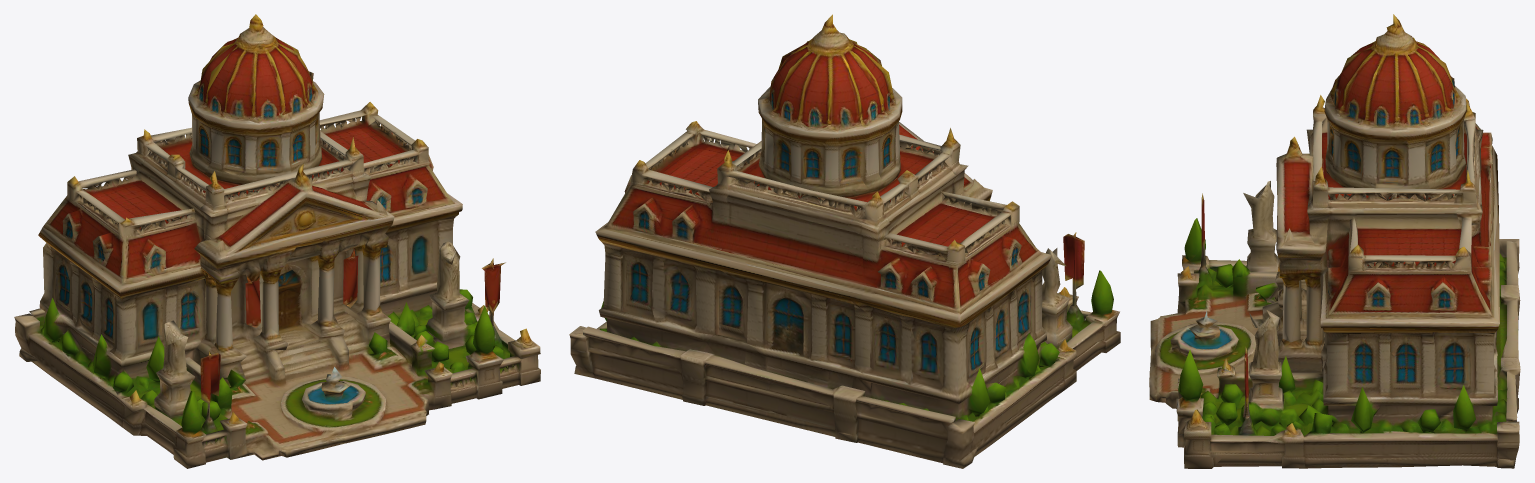
Rendered from town_hall_stage3.glb.
3 views of the same model, side by side, from view 1: azimuth 30°, elevation 25°; view 2: azimuth 150°, elevation 25°; view 3: azimuth 270°, elevation 25° (orthographic). The views are drawn at different scales.
Parts seen in each view (by area): view 1: tripo_node_be602329-53a9-43d6-9a13-ab039e047fee; view 2: tripo_node_be602329-53a9-43d6-9a13-ab039e047fee; view 3: tripo_node_be602329-53a9-43d6-9a13-ab039e047fee.
Boxes of the visible parts, x1,y1,x2,y2 form: tripo_node_be602329-53a9-43d6-9a13-ab039e047fee: (14, 14, 540, 468); tripo_node_be602329-53a9-43d6-9a13-ab039e047fee: (569, 14, 1120, 468); tripo_node_be602329-53a9-43d6-9a13-ab039e047fee: (1149, 14, 1520, 468).
Bounding box in the file's own units: 1 × 0.879 × 0.8226.
1 material, 1 textured.
